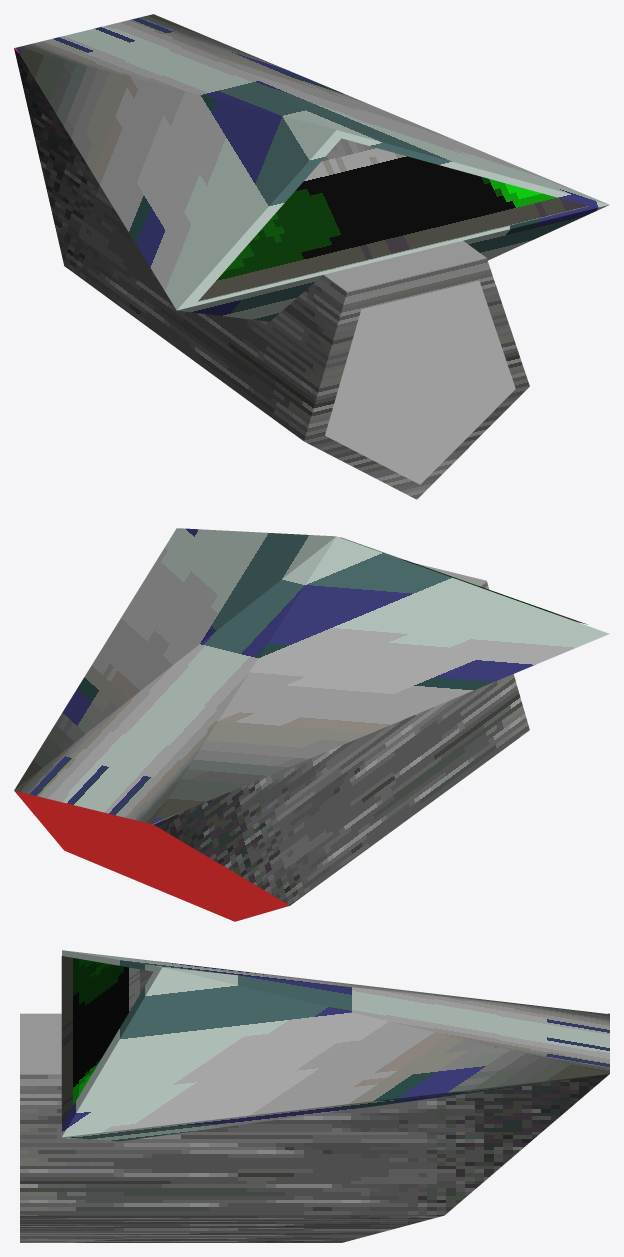
File: model_074_robot.glb
3 renders of one model, top to bottom at view 1: azimuth 30°, elevation 25°; view 2: azimuth 150°, elevation 25°; view 3: azimuth 270°, elevation 25°, orthographic. The views are drawn at different scales.
Visible parts, largest first — view 1: model_074; view 2: model_074; view 3: model_074.
Part boxes in pixels (x1=…): model_074: x1=14, y1=14, x2=609, y2=499; model_074: x1=14, y1=528, x2=609, y2=921; model_074: x1=20, y1=950, x2=609, y2=1242.
Size of the model in its own units: 3.72 by 2.55 by 5.
Materials: 5 (4 with a texture image).
